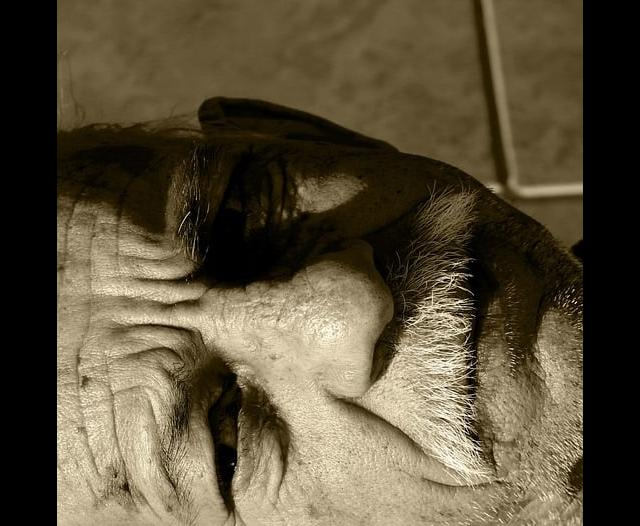Non_Gorille: (61, 123, 583, 526)
